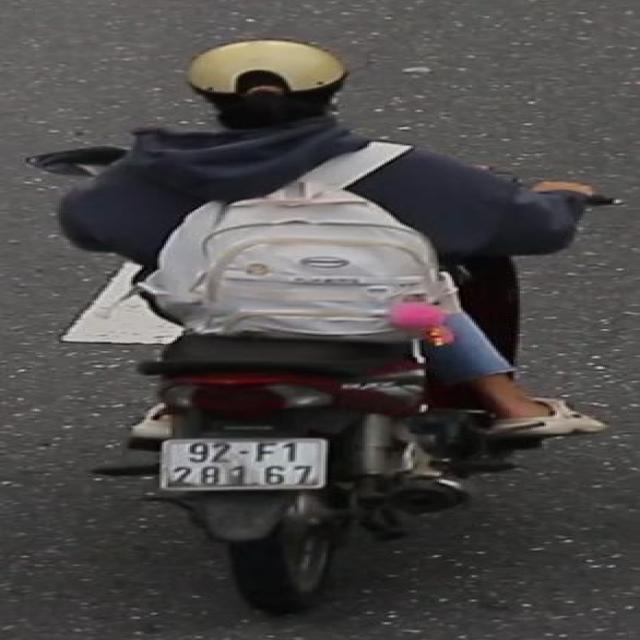LP: (144, 429, 339, 496)
helmet: (157, 36, 396, 147)
